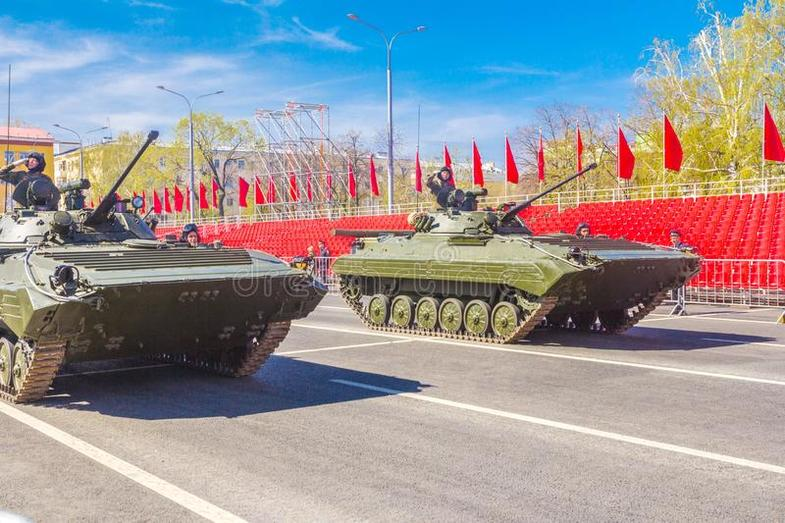bmp: (339, 216, 700, 344)
